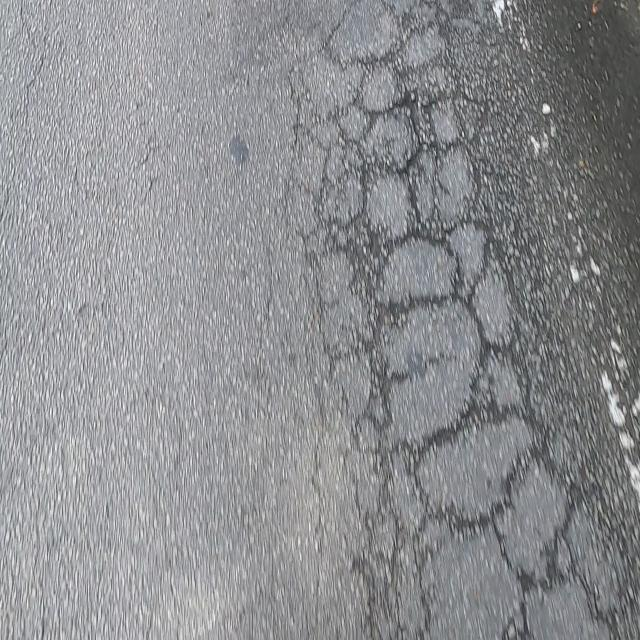Retak-Buaya: (288, 0, 635, 640)
